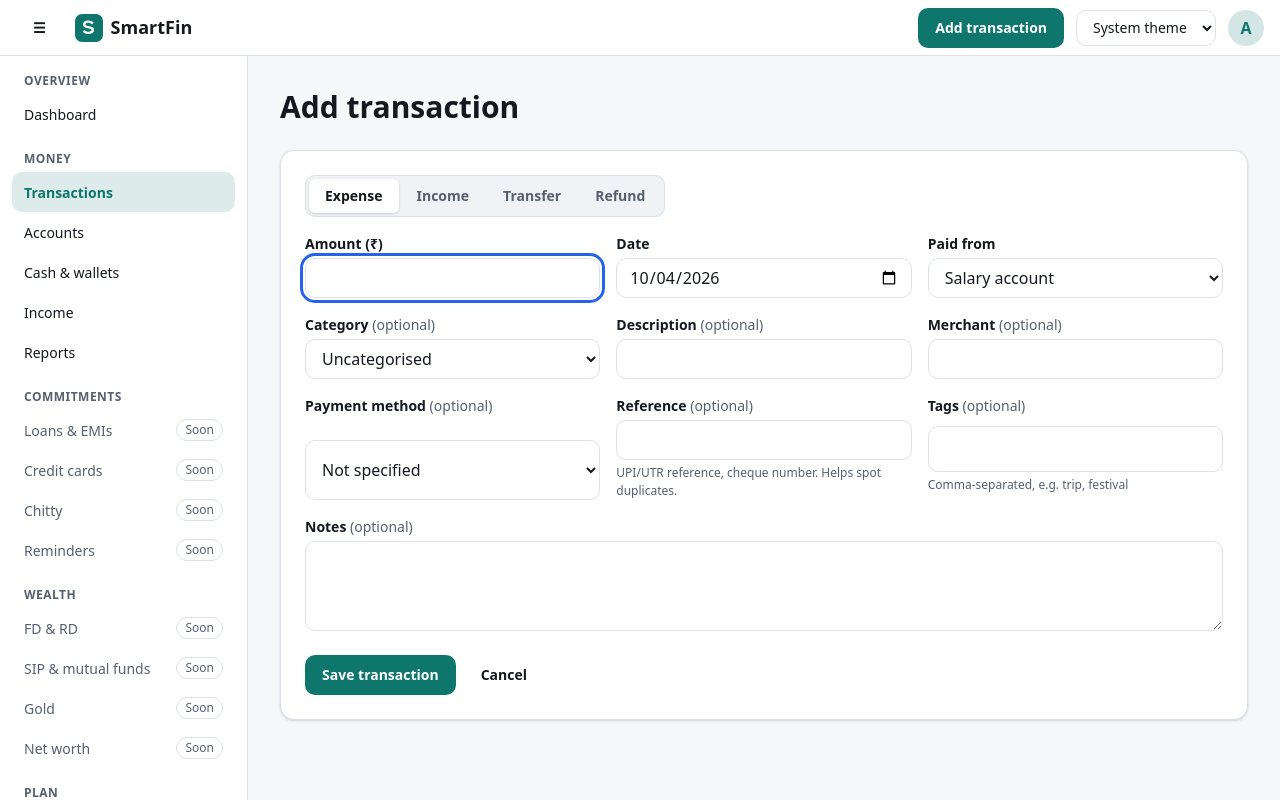
Test: adding a transaction › requires a destination account for transfers
Click the radio button labelled "Transfer": (532, 196) [503, 186, 561, 205]
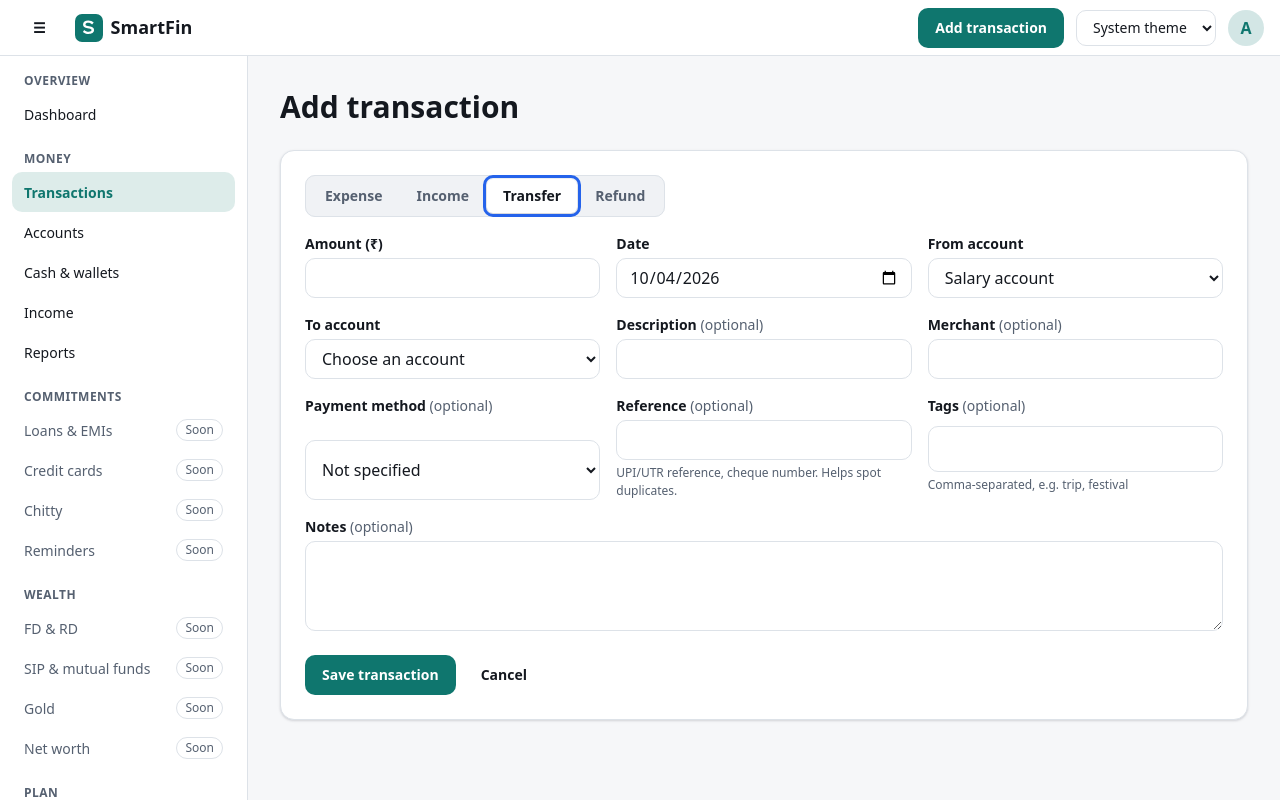
In the field labelled "Amount (₹)": (453, 278) [305, 258, 600, 298], type "500"
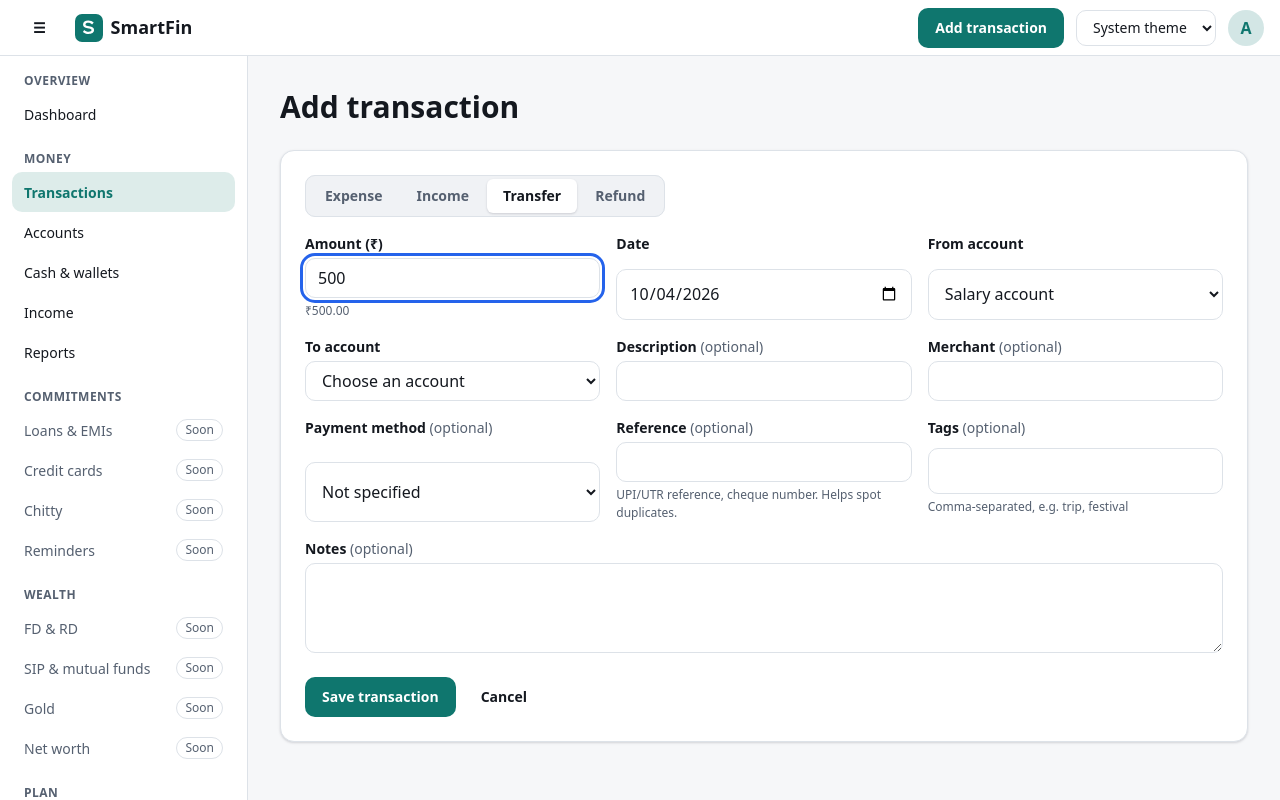
Click the button "Save transaction": (380, 696) [305, 676, 456, 716]
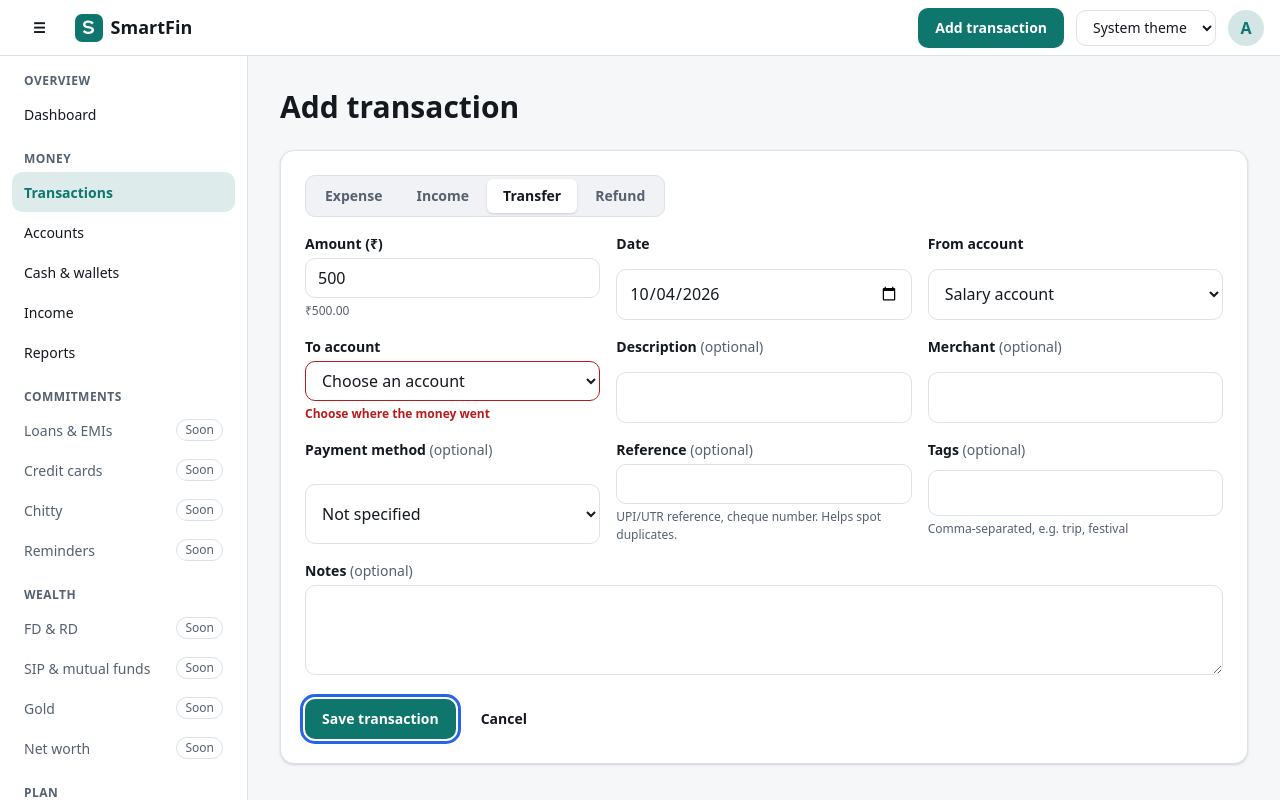
Check: the text "Choose where the money went" is shown, box [305, 404, 490, 422]
